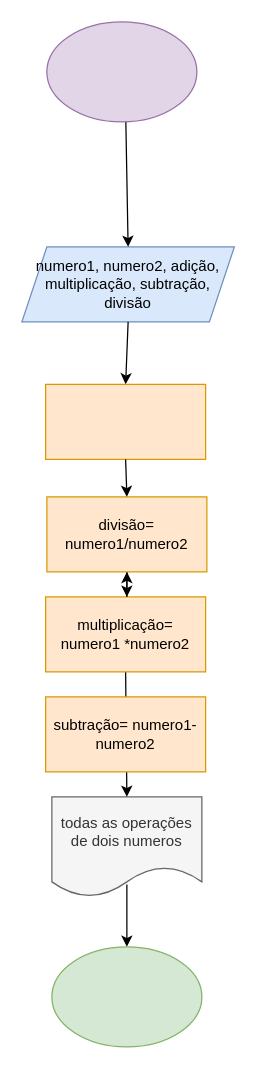
This 256x1069 diagram has some shape labels left out. The shapes that lost their labels are listed below. From the top down, each one's box as (x1, y1, x2, y2) in pixels, then its label:
(46, 21, 197, 122): Inicio
(44, 383, 206, 459): adição= numero1+ numero2
(51, 946, 202, 1047): Fim
